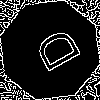D: (25, 25, 82, 79)
